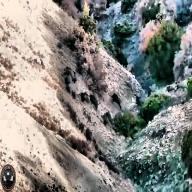boar: (112, 91, 124, 113), (63, 66, 76, 85), (89, 91, 99, 114), (60, 68, 72, 86), (78, 89, 90, 105), (102, 112, 111, 128)
